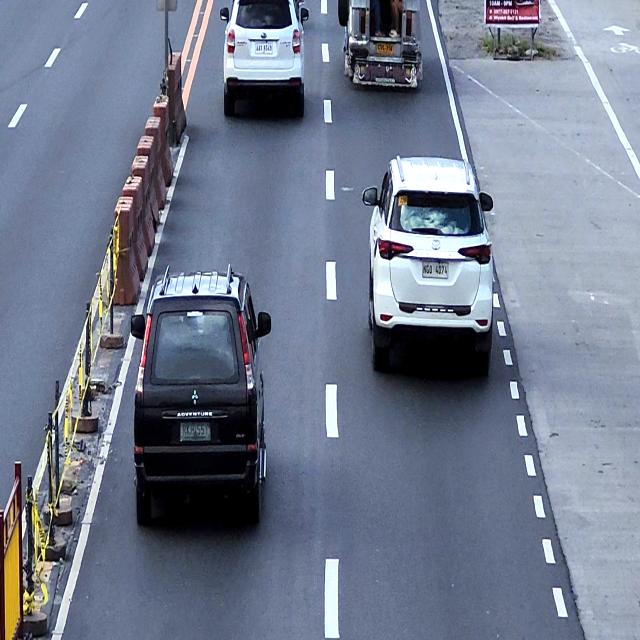Car: (130, 263, 272, 526), (362, 154, 494, 374), (219, 0, 309, 117)
Jeep: (337, 0, 423, 91)
License-Plate: (178, 420, 212, 442), (421, 261, 449, 279), (376, 42, 394, 56), (254, 42, 274, 54)
